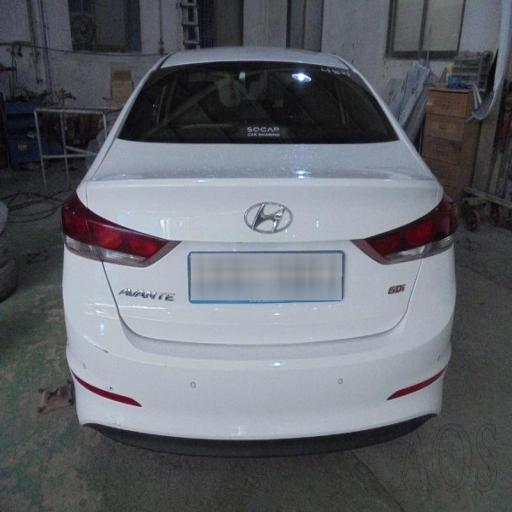scratch: (77, 279, 178, 381)
